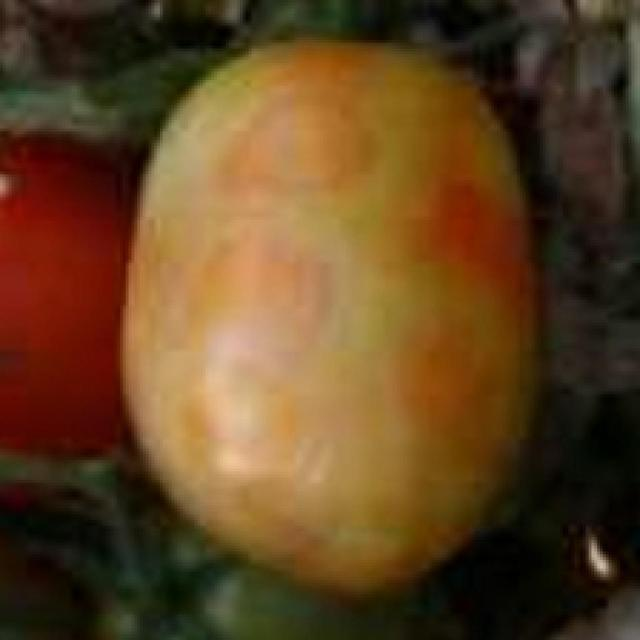Spotted wilt Virus Fruit: (80, 24, 361, 398)
